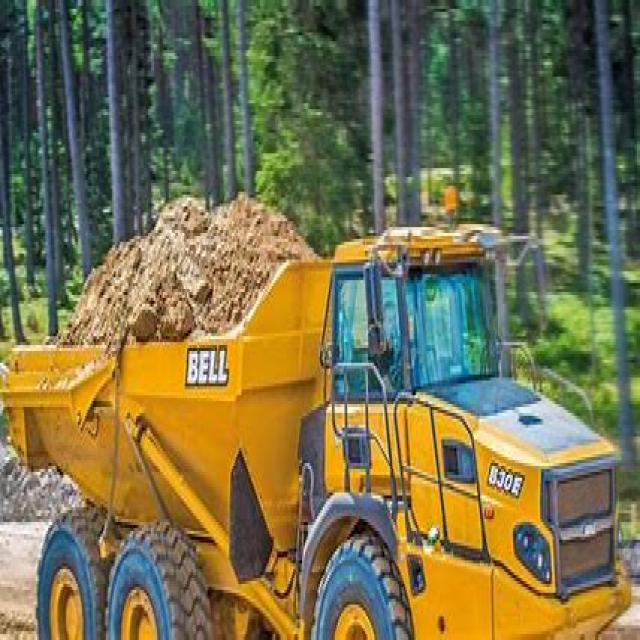dump_truck: (10, 177, 632, 637)
